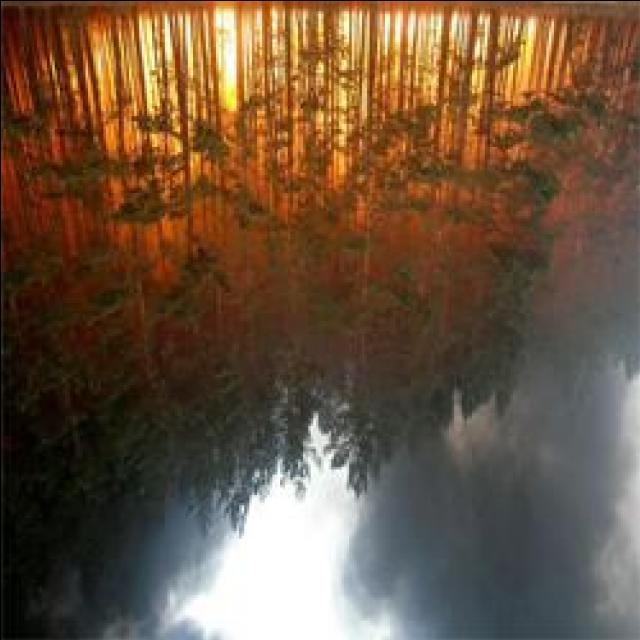fire: (218, 5, 236, 110)
smoke: (340, 458, 640, 638), (531, 282, 640, 628), (48, 524, 238, 640)
